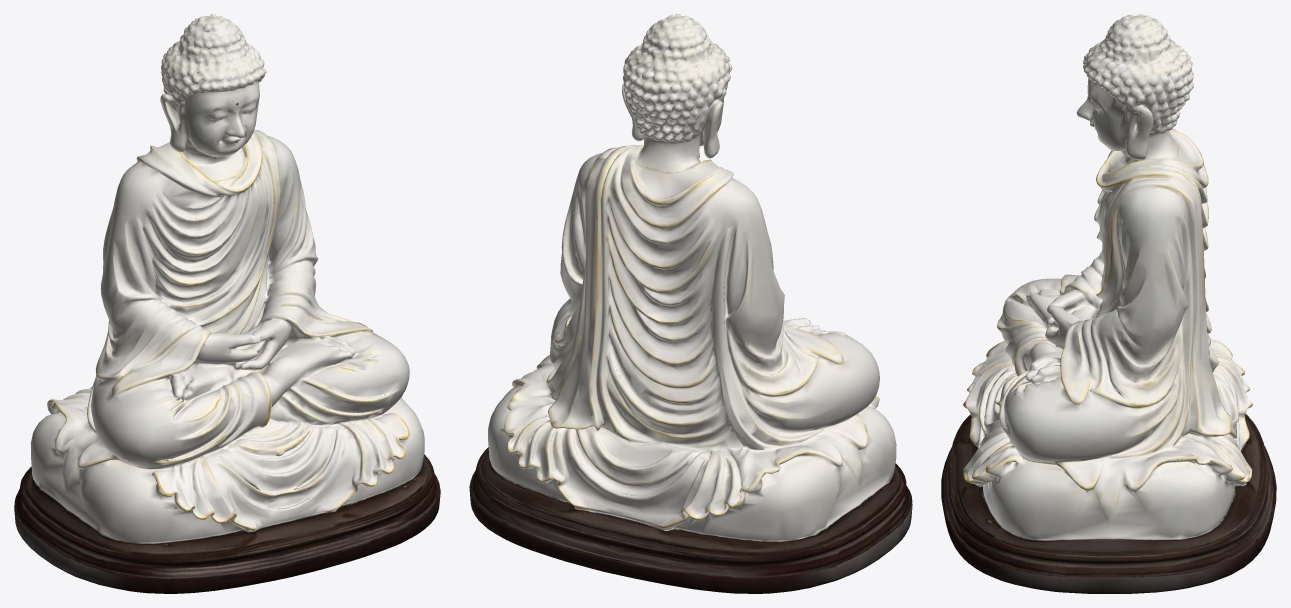
The picture shows the model from 3 angles, left to right: view 1: azimuth 30°, elevation 25°; view 2: azimuth 150°, elevation 25°; view 3: azimuth 270°, elevation 25°; orthographic projection. The views are drawn at different scales.
Parts seen in each view (by area): view 1: four-heavenly-kings-06; view 2: four-heavenly-kings-06; view 3: four-heavenly-kings-06.
Boxes of the visible parts, x1,y1,x2,y2 form: four-heavenly-kings-06: [14, 14, 440, 593]; four-heavenly-kings-06: [469, 14, 912, 593]; four-heavenly-kings-06: [941, 14, 1276, 593].
Size of the model in its own units: 0.7996 by 0.9998 by 0.6249.
1 material, 1 textured.
